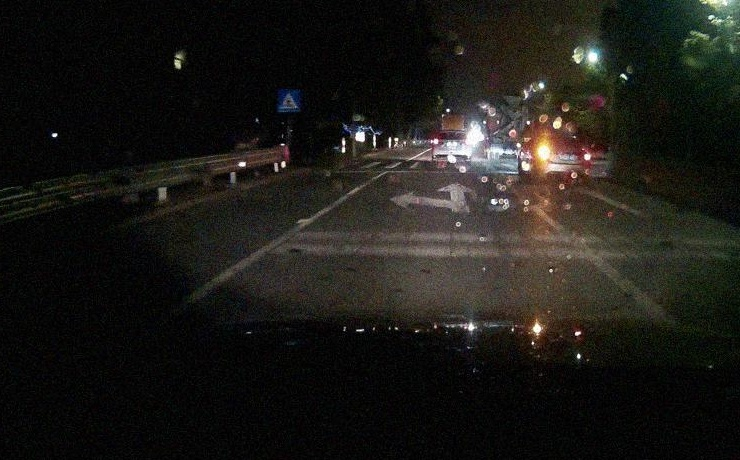L_light: (535, 148, 556, 156), (433, 139, 444, 145)
R_light: (571, 151, 590, 160), (458, 140, 470, 145)
T_light: (560, 135, 571, 137), (450, 132, 458, 133)
night-left: (534, 134, 592, 184)
night-no: (432, 131, 471, 168)
